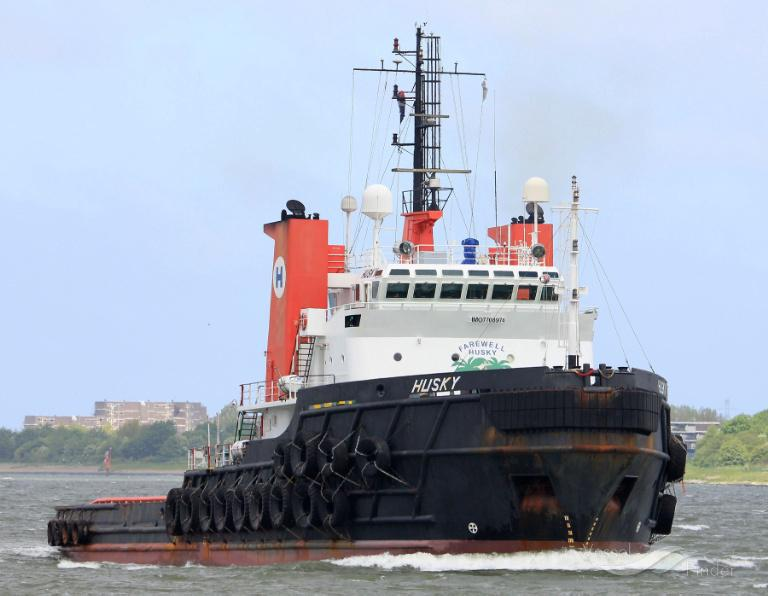OCR: (409, 373, 472, 402), (462, 310, 516, 330)
